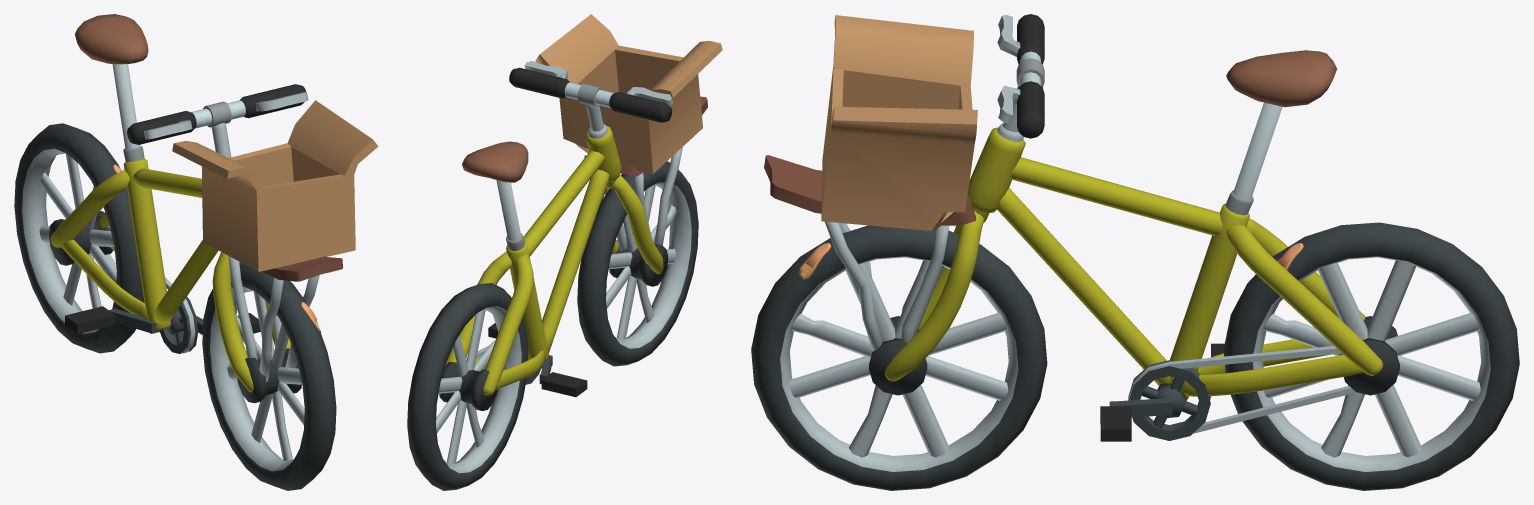
The model's file is bike.fbx.
3 renders of one model, left to right at view 1: azimuth 30°, elevation 25°; view 2: azimuth 150°, elevation 25°; view 3: azimuth 270°, elevation 25°, orthographic. The views are drawn at different scales.
Visible parts, largest first — view 1: HandleBar, FrontTire, RearWheel, Bike, SeatStool, PedalGear, RightPedal, Chain; view 2: HandleBar, RearWheel, FrontTire, Bike, SeatStool, RightPedal; view 3: HandleBar, FrontTire, RearWheel, Bike, SeatStool, PedalGear, Chain, LeftPedal.
Part boxes in pixels (left/top/right/bottom): HandleBar: left=127, top=84, right=378, bottom=392; FrontTire: left=202, top=262, right=336, bottom=490; RearWheel: left=14, top=123, right=144, bottom=353; Bike: left=50, top=146, right=218, bottom=330; SeatStool: left=75, top=14, right=148, bottom=148; PedalGear: left=109, top=297, right=203, bottom=353; RightPedal: left=65, top=306, right=115, bottom=334; Chain: left=105, top=226, right=195, bottom=353; HandleBar: left=509, top=14, right=722, bottom=274; RearWheel: left=407, top=283, right=528, bottom=490; FrontTire: left=577, top=161, right=698, bottom=366; Bike: left=445, top=124, right=621, bottom=395; SeatStool: left=462, top=141, right=528, bottom=240; RightPedal: left=541, top=372, right=587, bottom=397; HandleBar: left=764, top=14, right=1044, bottom=381; FrontTire: left=751, top=225, right=1047, bottom=490; RearWheel: left=1223, top=222, right=1519, bottom=490; Bike: left=967, top=123, right=1383, bottom=400; SeatStool: left=1226, top=50, right=1336, bottom=199; PedalGear: left=1109, top=360, right=1210, bottom=440; Chain: left=1128, top=346, right=1356, bottom=433; LeftPedal: left=1100, top=406, right=1131, bottom=441.
Bounding box in the file's own units: 0.6127 × 1.18 × 1.89.
